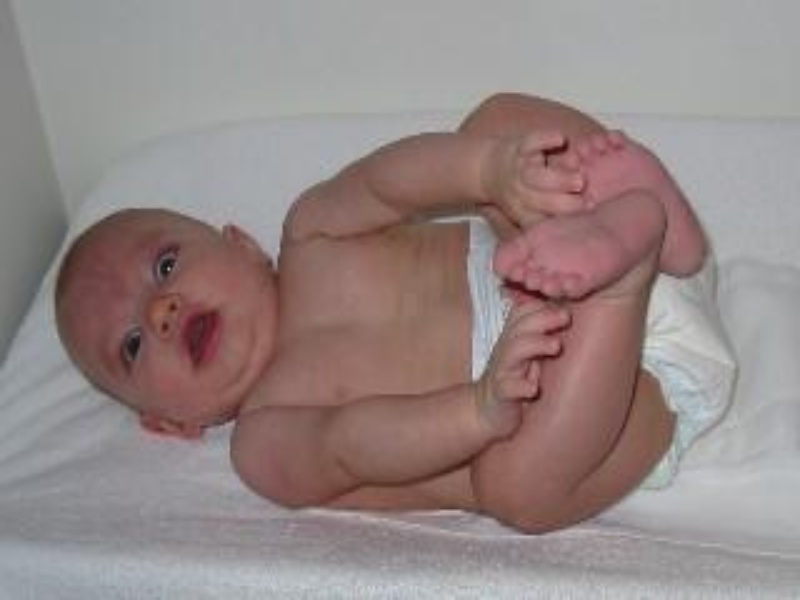person: (56, 92, 738, 535)
